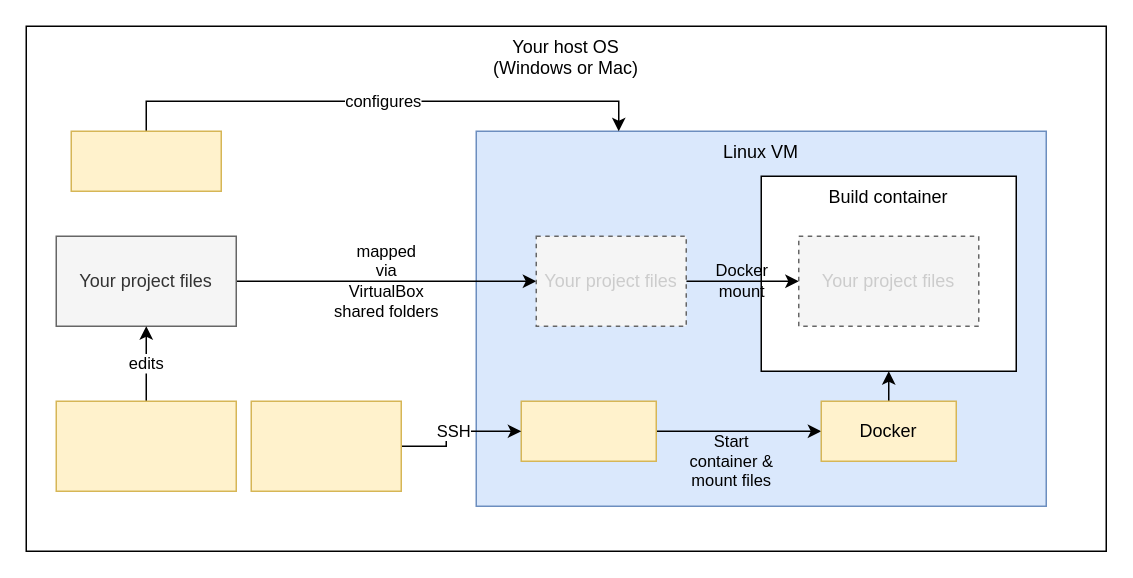
Image size: 1133x578. Some labels were removed from this diagram. Here are the shapes that lost their labels. From the top down, the centre of each, then its label:
the point at 145,160: Vagrant
the point at 145,445: Your favourite code editor
the point at 325,445: Your terminal
the point at 588,430: $ bob dev
